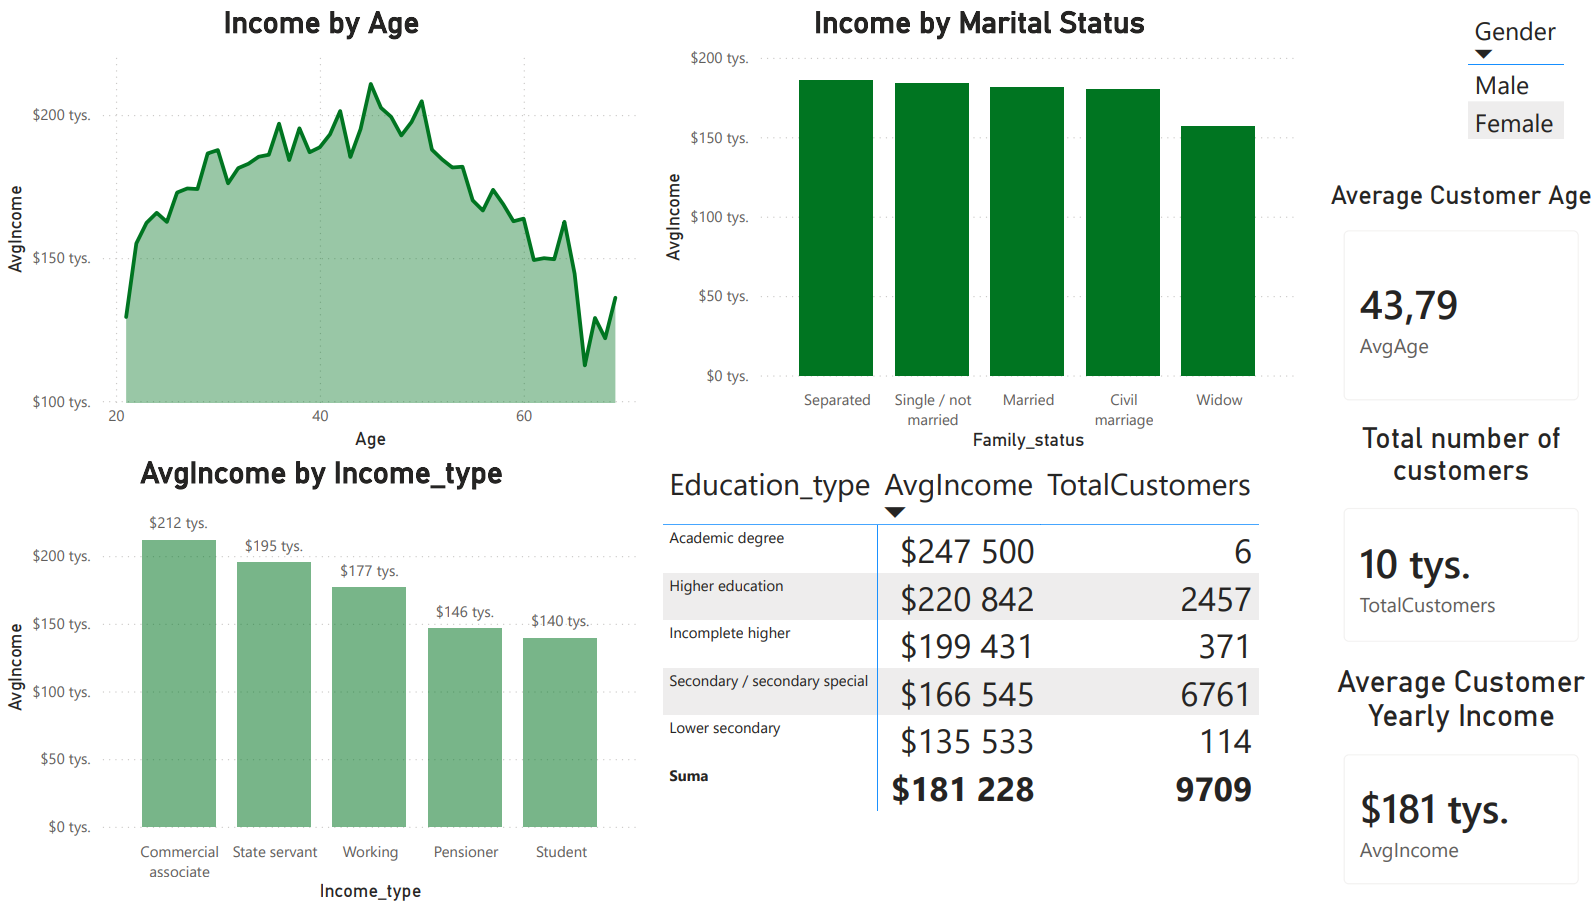

The page's visual inventory and layout, read from the dashboard file:
{"tool":"powerbi","page":{"name":"Financial Data","canvas":[1280,720],"ordinal":2},"visuals":[{"type":"cardVisual","title":"Average Customer Age","fields":{"Data":["_Key measures.AvgAge"]},"box":[1058,140,222.3,193.5],"z":0},{"type":"cardVisual","title":"Average Customer Yearly Income","fields":{"Data":["_Key measures.AvgIncome"]},"box":[1058,526.9,222.3,193.5],"z":1000},{"type":"cardVisual","title":"Total number of customers","fields":{"Data":["_Key measures.TotalCustomers"]},"box":[1058,333.4,222.3,193.5],"z":2000},{"type":"tableEx","fields":{"Values":["Credit_cards.Gender"]},"box":[1169.1,0,111.1,113.9],"z":3000},{"type":"lineChart","title":"Income by Age","fields":{"Category":["Credit_cards.Age"],"Y":["_Key measures.AvgIncome"]},"box":[0,0,516,359.5],"z":4000},{"type":"columnChart","title":"AvgIncome by Income_type","fields":{"Category":["Credit_cards.Income_type"],"Y":["_Key measures.AvgIncome"]},"box":[0,359.5,516,360.9],"z":5000},{"type":"columnChart","title":"Income by Marital Status","fields":{"Category":["Credit_cards.Family_status"],"Y":["_Key measures.AvgIncome"]},"box":[526,0,516,360],"z":6000},{"type":"pivotTable","fields":{"Rows":["Credit_cards.Education_type"],"Values":["_Key measures.AvgIncome","_Key measures.TotalCustomers"]},"box":[526,360,516,360],"z":7000}]}

Visuals, with their boxes in screenshot pixels (x1, y1, x2, y2), scaled from the page's 1280x720 canvas onto the 1596x908 screenshot:
"Average Customer Age" cardVisual: <bbox>1319, 177, 1595, 421</bbox>
"Average Customer Yearly Income" cardVisual: <bbox>1319, 664, 1595, 907</bbox>
"Total number of customers" cardVisual: <bbox>1319, 420, 1595, 664</bbox>
tableEx - Credit_cards.Gender: <bbox>1458, 0, 1595, 144</bbox>
"Income by Age" lineChart: <bbox>0, 0, 643, 453</bbox>
"AvgIncome by Income_type" columnChart: <bbox>0, 453, 643, 907</bbox>
"Income by Marital Status" columnChart: <bbox>656, 0, 1299, 454</bbox>
pivotTable - Credit_cards.Education_type x _Key measures.AvgIncome: <bbox>656, 454, 1299, 907</bbox>
